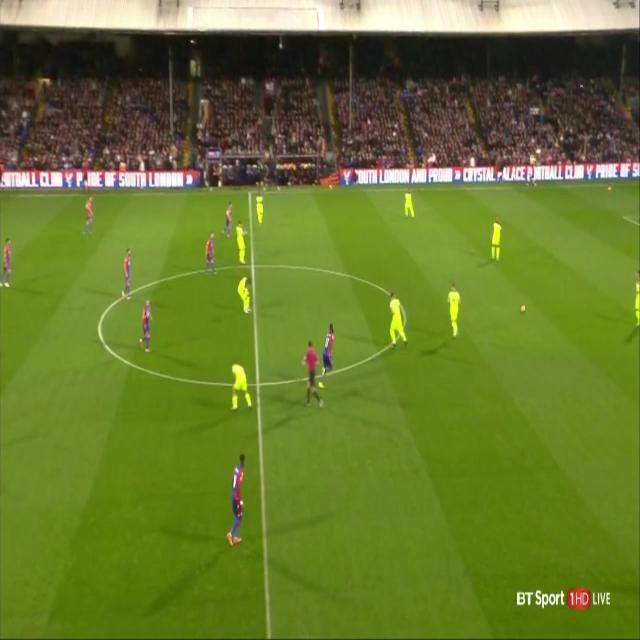Ball: (518, 300, 527, 316)
Player: (226, 452, 248, 555), (228, 359, 255, 414), (388, 290, 410, 352), (136, 295, 156, 358), (445, 283, 463, 337), (77, 192, 98, 238), (0, 232, 15, 292), (322, 320, 336, 381), (236, 272, 253, 320), (489, 211, 504, 265), (121, 245, 134, 302), (235, 220, 250, 266), (204, 231, 218, 278), (220, 196, 234, 238), (632, 266, 640, 330), (254, 188, 266, 228), (403, 188, 416, 222)
Referee: (298, 338, 327, 411)
